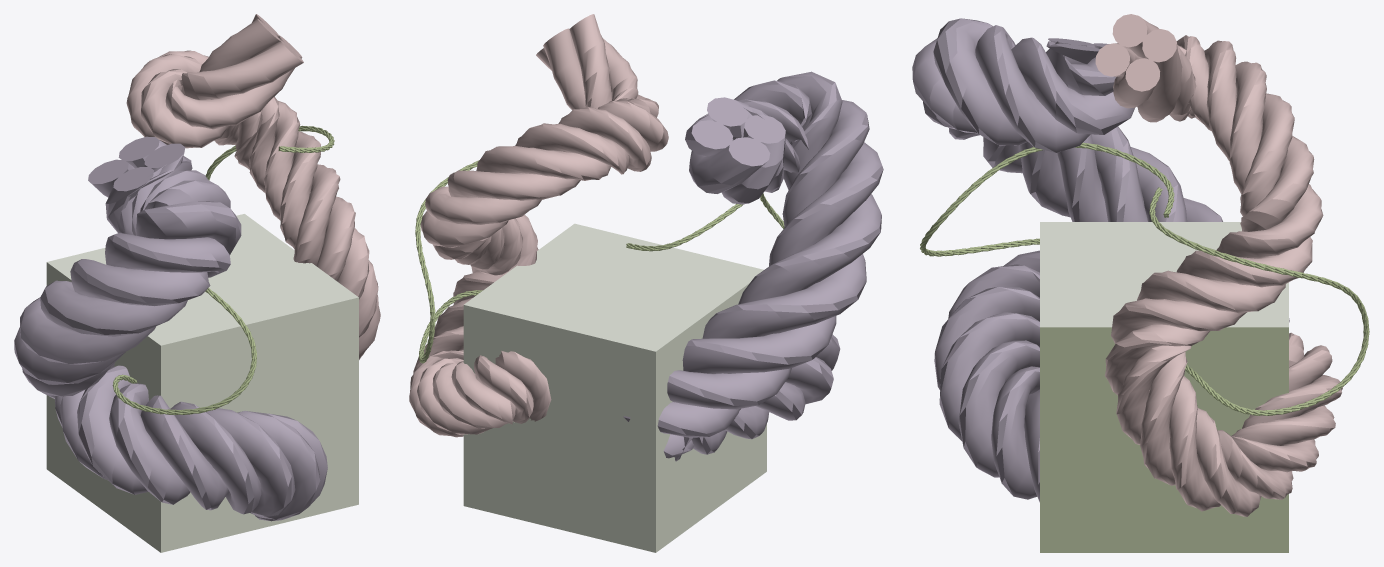
The model's file is 04_06 sample platform.fbx.
The picture shows the model from 3 angles, left to right: view 1: azimuth 30°, elevation 25°; view 2: azimuth 150°, elevation 25°; view 3: azimuth 270°, elevation 25°; orthographic projection. The views are drawn at different scales.
Visible parts, largest first — view 1: polySurface1, platform, big_branch1, rope1, rope; view 2: platform, polySurface1, big_branch1, rope, rope1; view 3: big_branch1, polySurface1, platform, rope, rope1.
Boxes of the visible parts, x1,y1,x2,y2 form: polySurface1: [14, 136, 327, 521]; platform: [46, 214, 358, 552]; big_branch1: [126, 14, 380, 359]; rope1: [112, 287, 256, 415]; rope: [205, 125, 334, 180]; platform: [463, 223, 766, 552]; polySurface1: [623, 71, 883, 461]; big_branch1: [409, 14, 668, 437]; rope: [415, 160, 482, 363]; rope1: [626, 193, 784, 251]; big_branch1: [1095, 14, 1342, 516]; polySurface1: [912, 18, 1289, 502]; platform: [1040, 222, 1288, 552]; rope: [1149, 187, 1369, 415]; rope1: [920, 142, 1174, 256].
Bounding box in the file's own units: 19.64 × 23.64 × 18.36.
